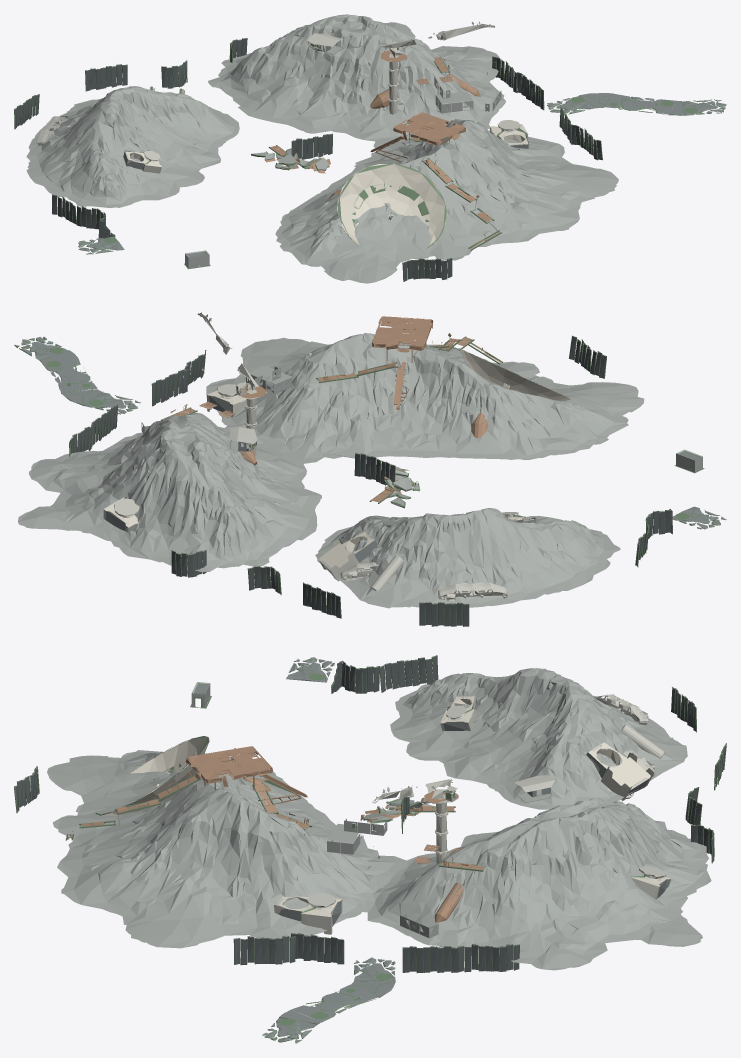
Rendered from junkyard_1-map.glb.
The picture shows the model from 3 angles, top to bottom: view 1: azimuth 30°, elevation 25°; view 2: azimuth 150°, elevation 25°; view 3: azimuth 270°, elevation 25°; orthographic projection. The views are drawn at different scales.
Parts seen in each view (by area): view 1: junkyard_mound_a, dish_radio_LOD0, road_nopavement_9x15_end_LOD0, perimeter_wall_corner_LOD0, range_outbuilding_b_LOD0; view 2: junkyard_mound_a, road_nopavement_9x15_end_LOD0, perimeter_wall_corner_LOD0, dish_radio_LOD0, range_outbuilding_b_LOD0; view 3: junkyard_mound_a, road_nopavement_9x15_end_LOD0, perimeter_wall_corner_LOD0, dish_radio_LOD0, range_outbuilding_b_LOD0.
Boxes of the visible parts, x1,y1,x2,y2 form: junkyard_mound_a: (26, 14, 618, 283); dish_radio_LOD0: (30, 48, 528, 259); road_nopavement_9x15_end_LOD0: (14, 38, 726, 281); perimeter_wall_corner_LOD0: (14, 38, 602, 281); range_outbuilding_b_LOD0: (36, 21, 528, 266); junkyard_mound_a: (18, 333, 702, 608); road_nopavement_9x15_end_LOD0: (14, 336, 726, 626); perimeter_wall_corner_LOD0: (69, 335, 672, 626); dish_radio_LOD0: (104, 316, 662, 601); range_outbuilding_b_LOD0: (103, 312, 691, 600); junkyard_mound_a: (47, 668, 711, 970); road_nopavement_9x15_end_LOD0: (14, 656, 726, 1043); perimeter_wall_corner_LOD0: (14, 655, 726, 973); dish_radio_LOD0: (67, 657, 716, 946); range_outbuilding_b_LOD0: (209, 694, 670, 936).
Size of the model in its own units: 197 by 33.49 by 154.
